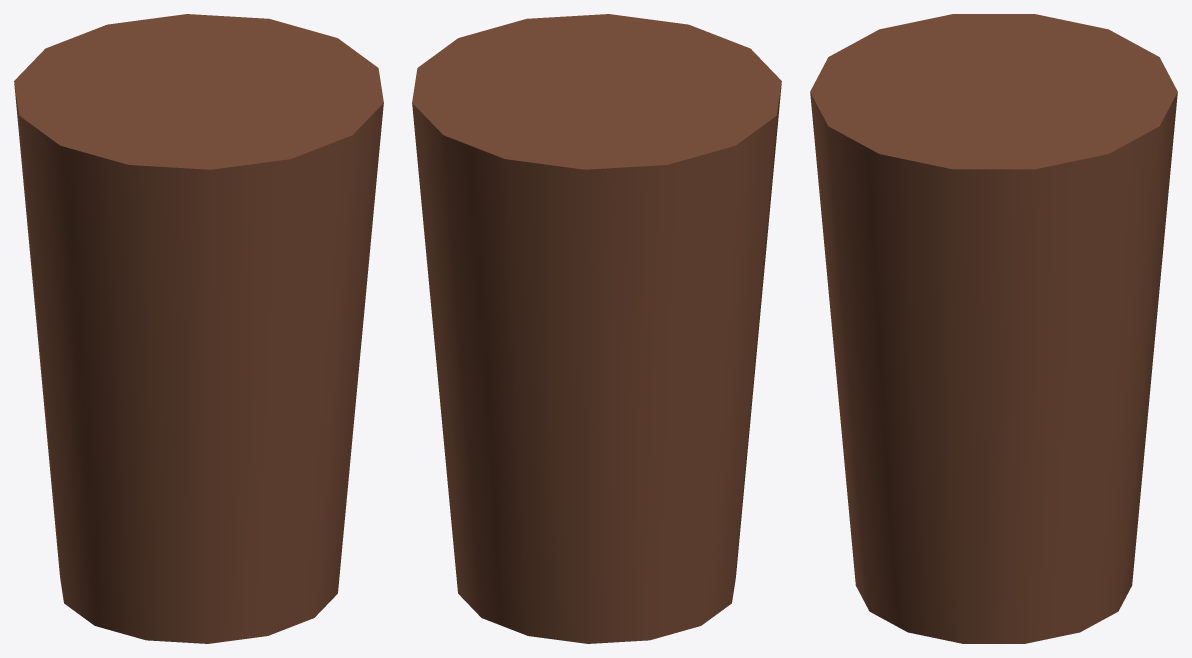
Rendered from Glass-4.fbx.
The picture shows the model from 3 angles, left to right: view 1: azimuth 30°, elevation 25°; view 2: azimuth 150°, elevation 25°; view 3: azimuth 270°, elevation 25°; orthographic projection.
Parts seen in each view (by area): view 1: Glass-4; view 2: Glass-4; view 3: Glass-4.
Boxes of the visible parts, box(x1,y1,x2,y2) form: Glass-4: box(14, 14, 383, 643); Glass-4: box(412, 14, 781, 643); Glass-4: box(810, 14, 1177, 643).
Bounding box in the file's own units: 0.0651 × 0.0964 × 0.0651.
